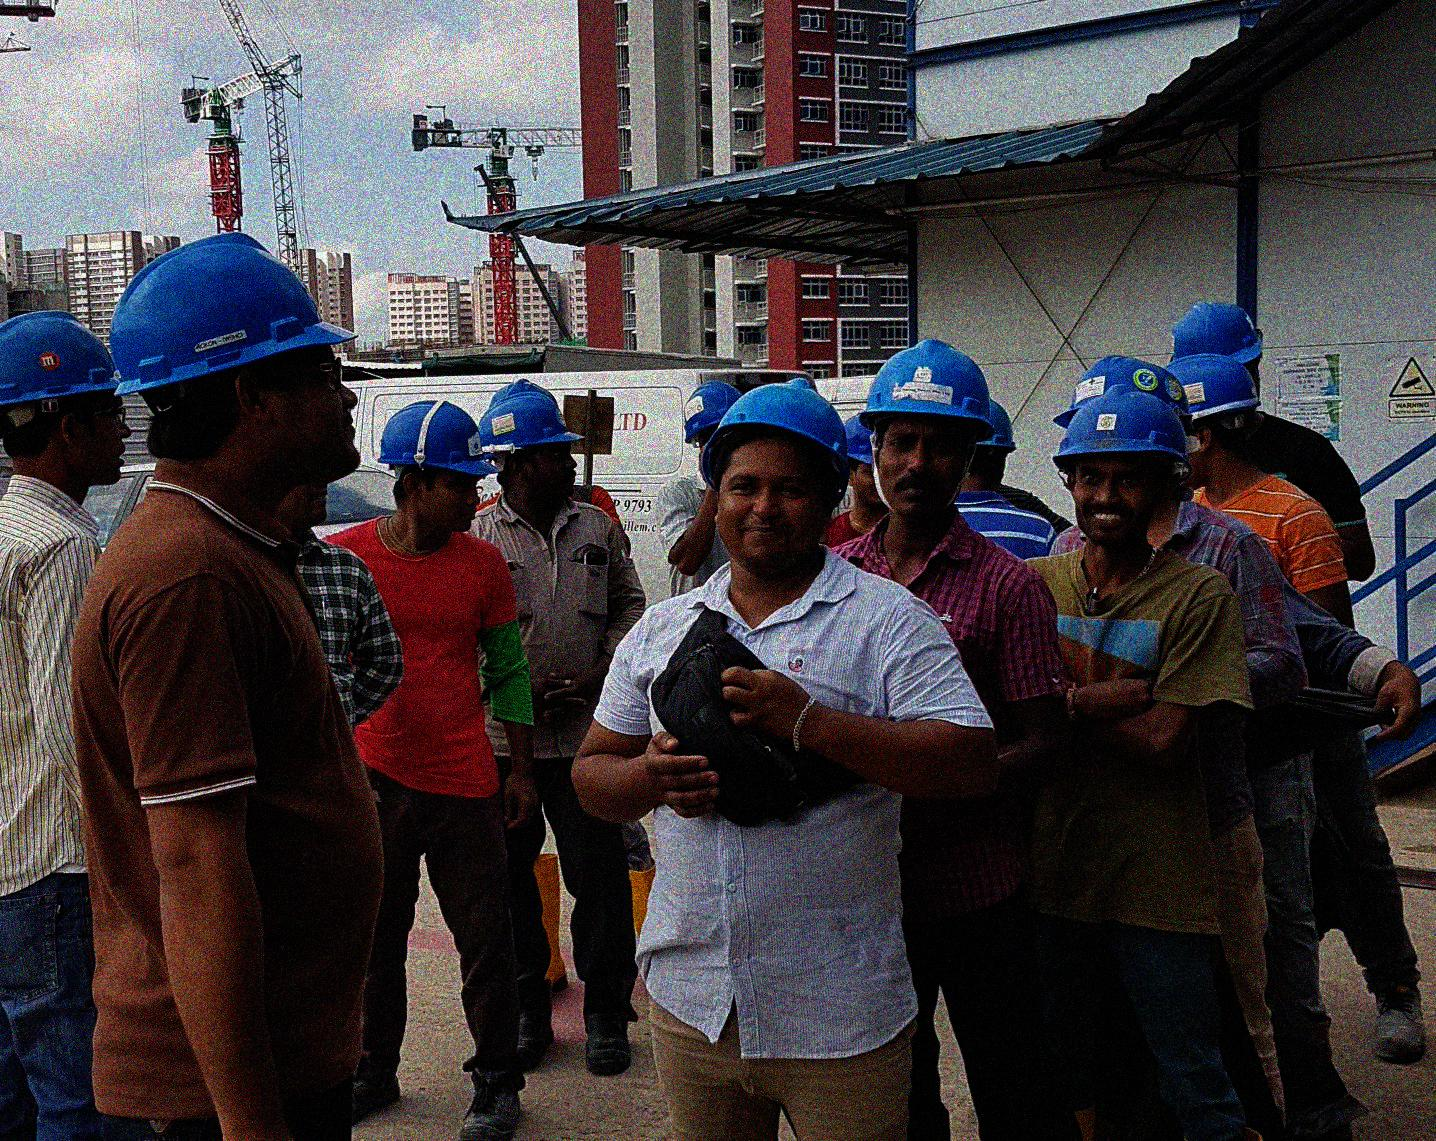helmet: (104, 235, 366, 494), (702, 380, 849, 568), (1, 303, 131, 493), (861, 337, 993, 517), (1053, 383, 1194, 549), (374, 402, 500, 540), (1053, 352, 1196, 450), (1163, 346, 1261, 488), (485, 392, 586, 510), (1168, 296, 1267, 408), (950, 388, 1022, 503), (842, 399, 897, 517), (681, 375, 747, 455)
